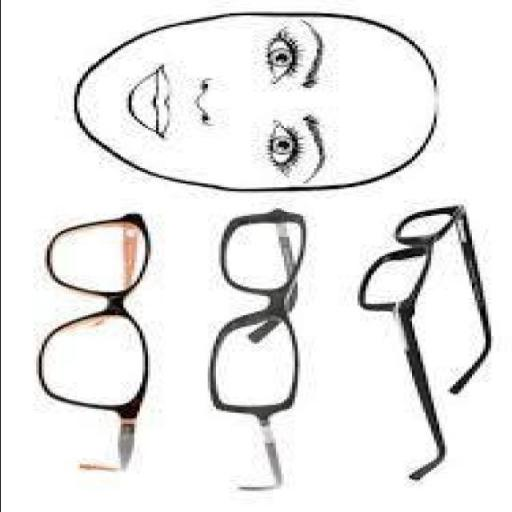glasses: (340, 193, 502, 505), (19, 199, 177, 485), (196, 199, 338, 504)
